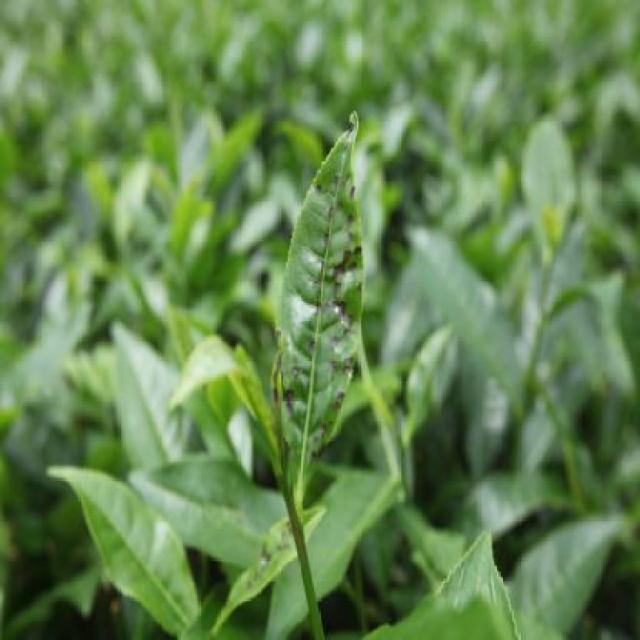Tea Mosquito bug infested leaf: (272, 118, 365, 490)
